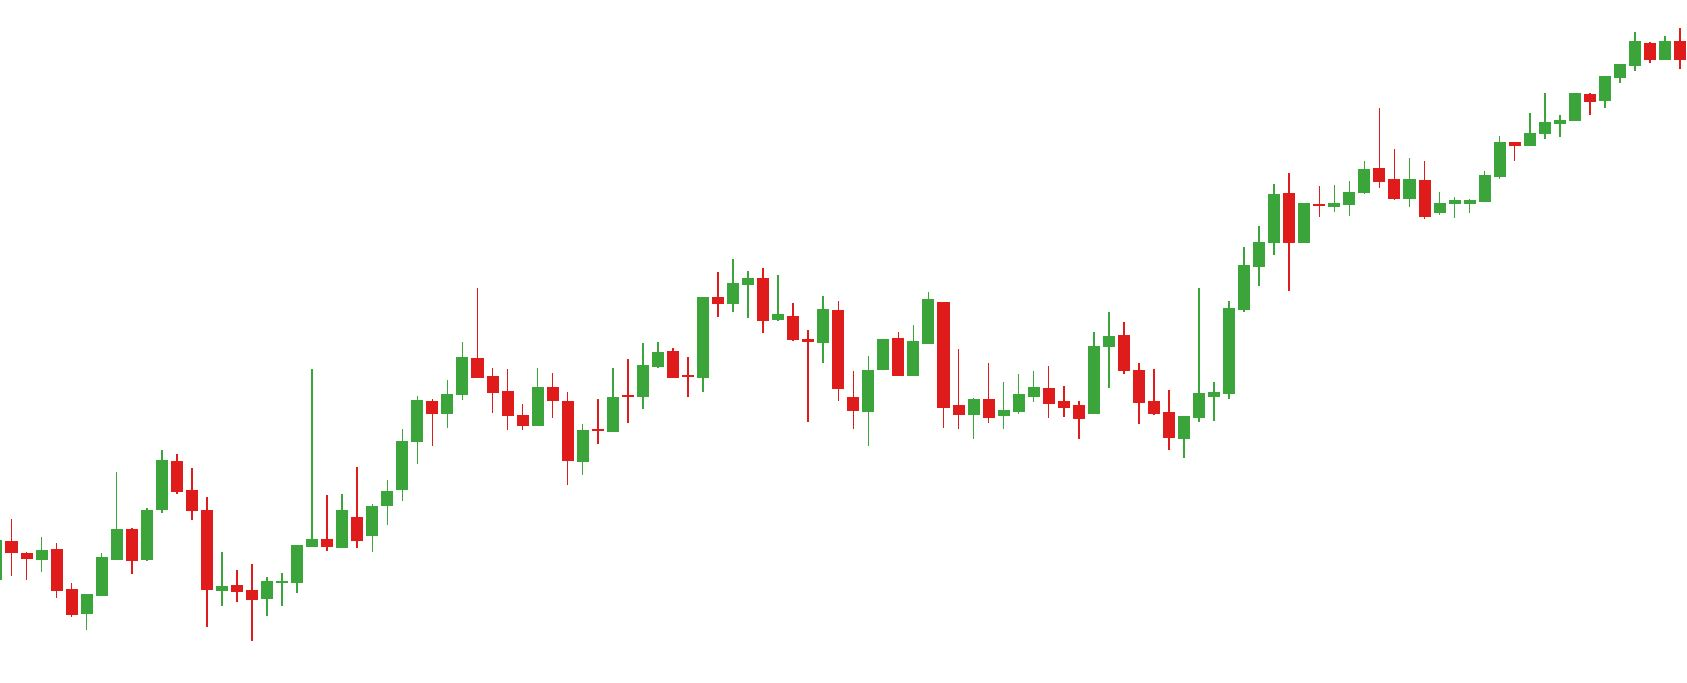buy: (1071, 358, 1194, 459)
